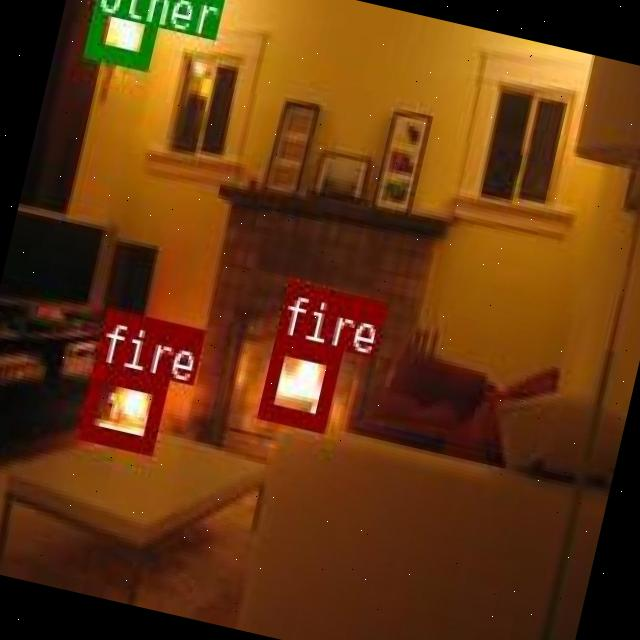fire: (77, 362, 165, 450), (258, 334, 340, 428)
